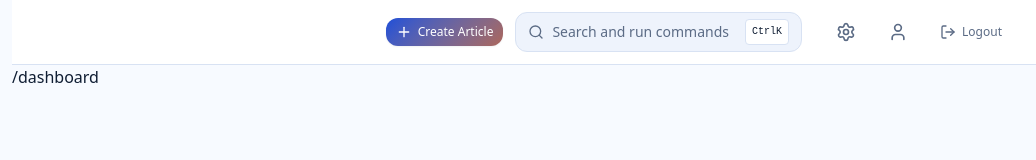
Test: <TopBar /> › sends the global create button to /articles?new=1
This screenshot has width=1036, height=160.
Click the button "Create Article" at (445,32), box [386,18,503,46]
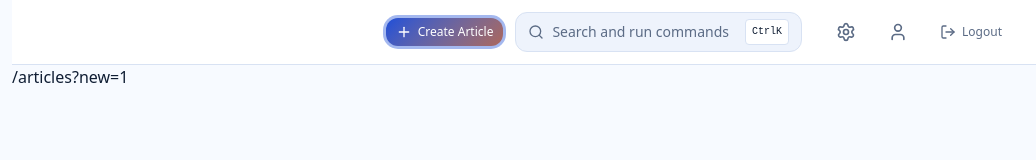
Expected: the text with test id "where" reads "/articles?new=1", [12,66,128,88]
